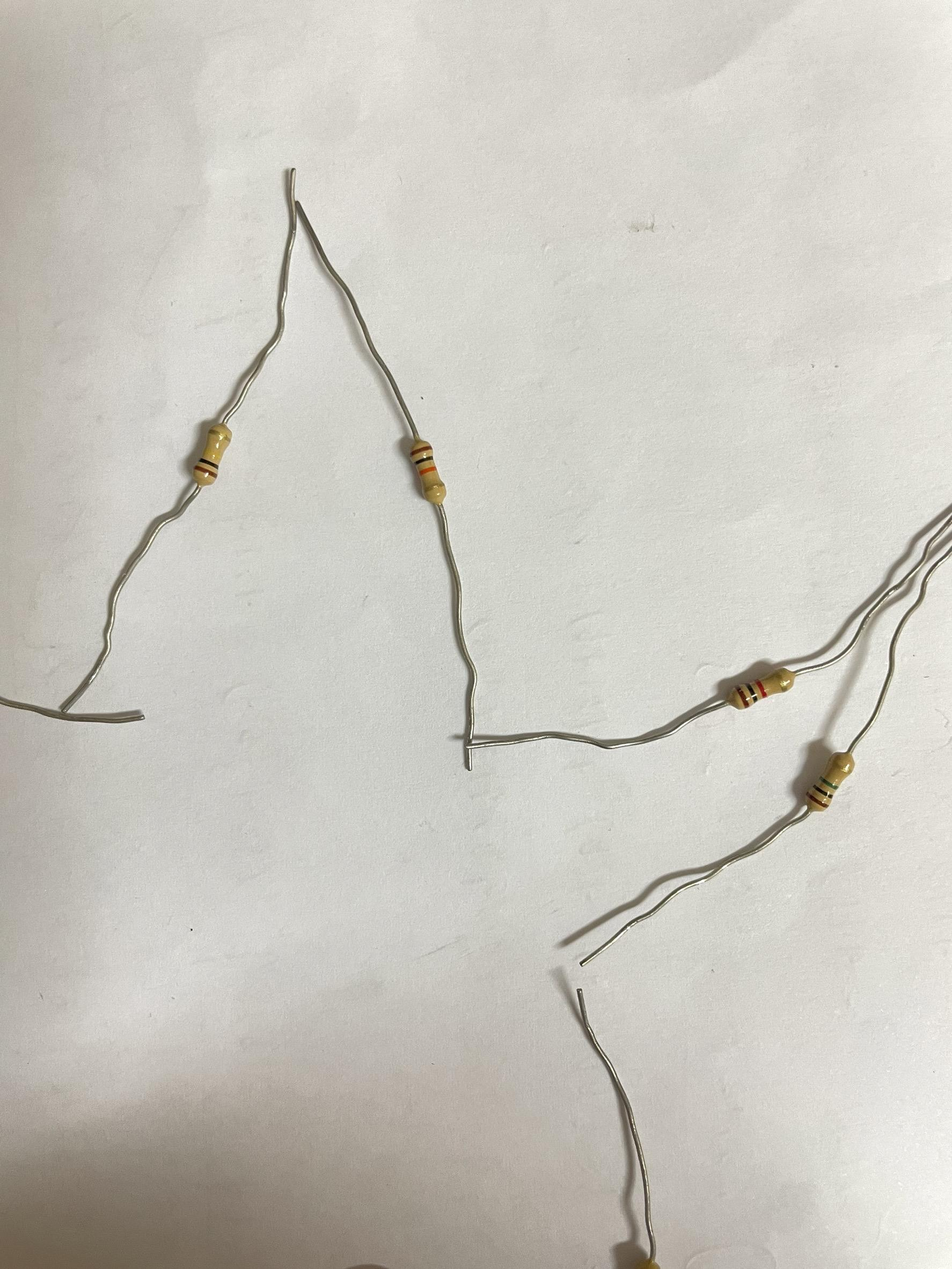resistor: (806, 752, 856, 816), (725, 667, 795, 710), (195, 422, 233, 489), (410, 440, 448, 504)
